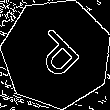P_SE: (26, 22, 87, 85)
